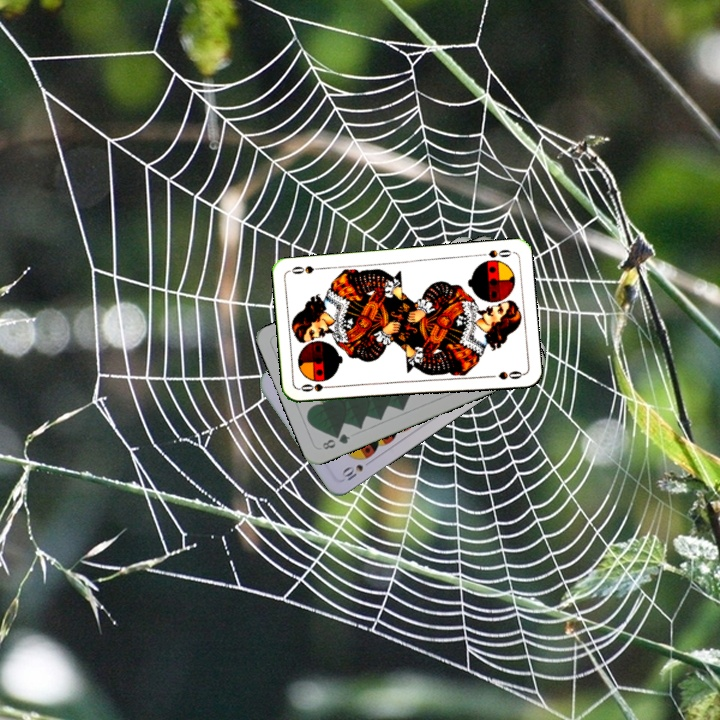G8: (318, 430, 353, 452)
S10: (338, 456, 375, 485)
SO: (475, 245, 515, 260), (297, 380, 337, 394)
